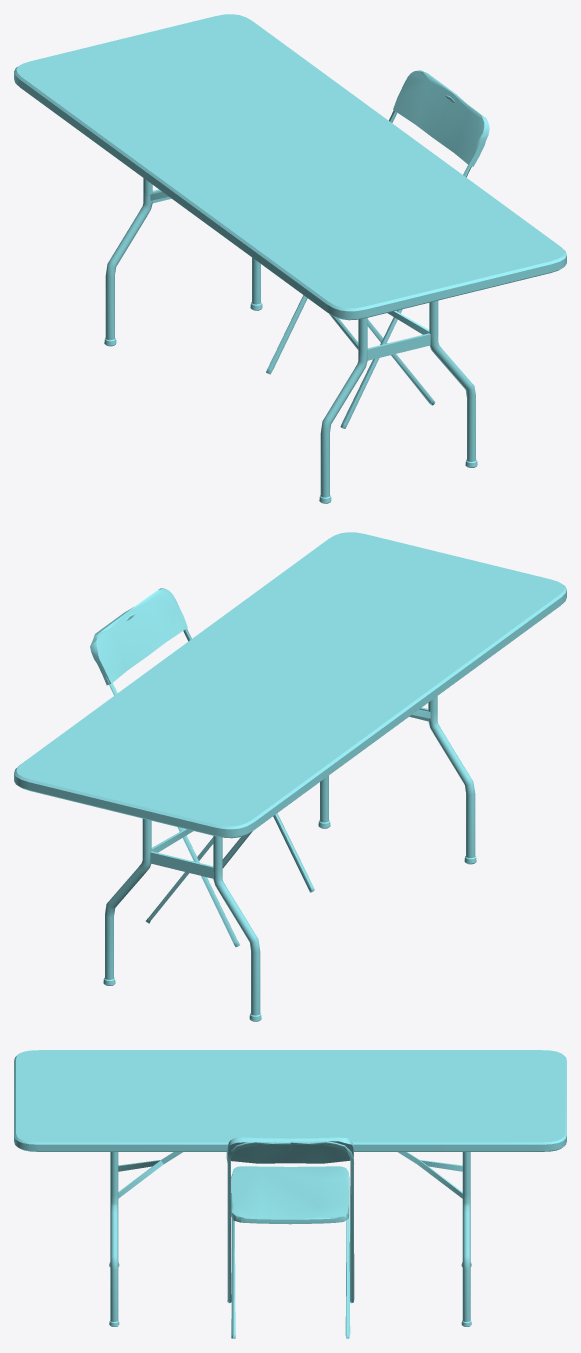
The model's file is nukedchair.FBX.
3 renders of one model, top to bottom at view 1: azimuth 30°, elevation 25°; view 2: azimuth 150°, elevation 25°; view 3: azimuth 270°, elevation 25°, orthographic. The views are drawn at different scales.
Visible parts, largest first — view 1: TABLE_Folding, CHAIR_Folding; view 2: TABLE_Folding, CHAIR_Folding; view 3: TABLE_Folding, CHAIR_Folding.
Part boxes in pixels (x1,y1,x2,y2): TABLE_Folding: (14, 14, 566, 503); CHAIR_Folding: (266, 70, 489, 428); TABLE_Folding: (14, 532, 566, 1021); CHAIR_Folding: (90, 588, 314, 947); TABLE_Folding: (14, 1050, 566, 1326); CHAIR_Folding: (226, 1137, 354, 1338).
Size of the model in its own units: 0.9596 by 0.8833 by 1.98.
